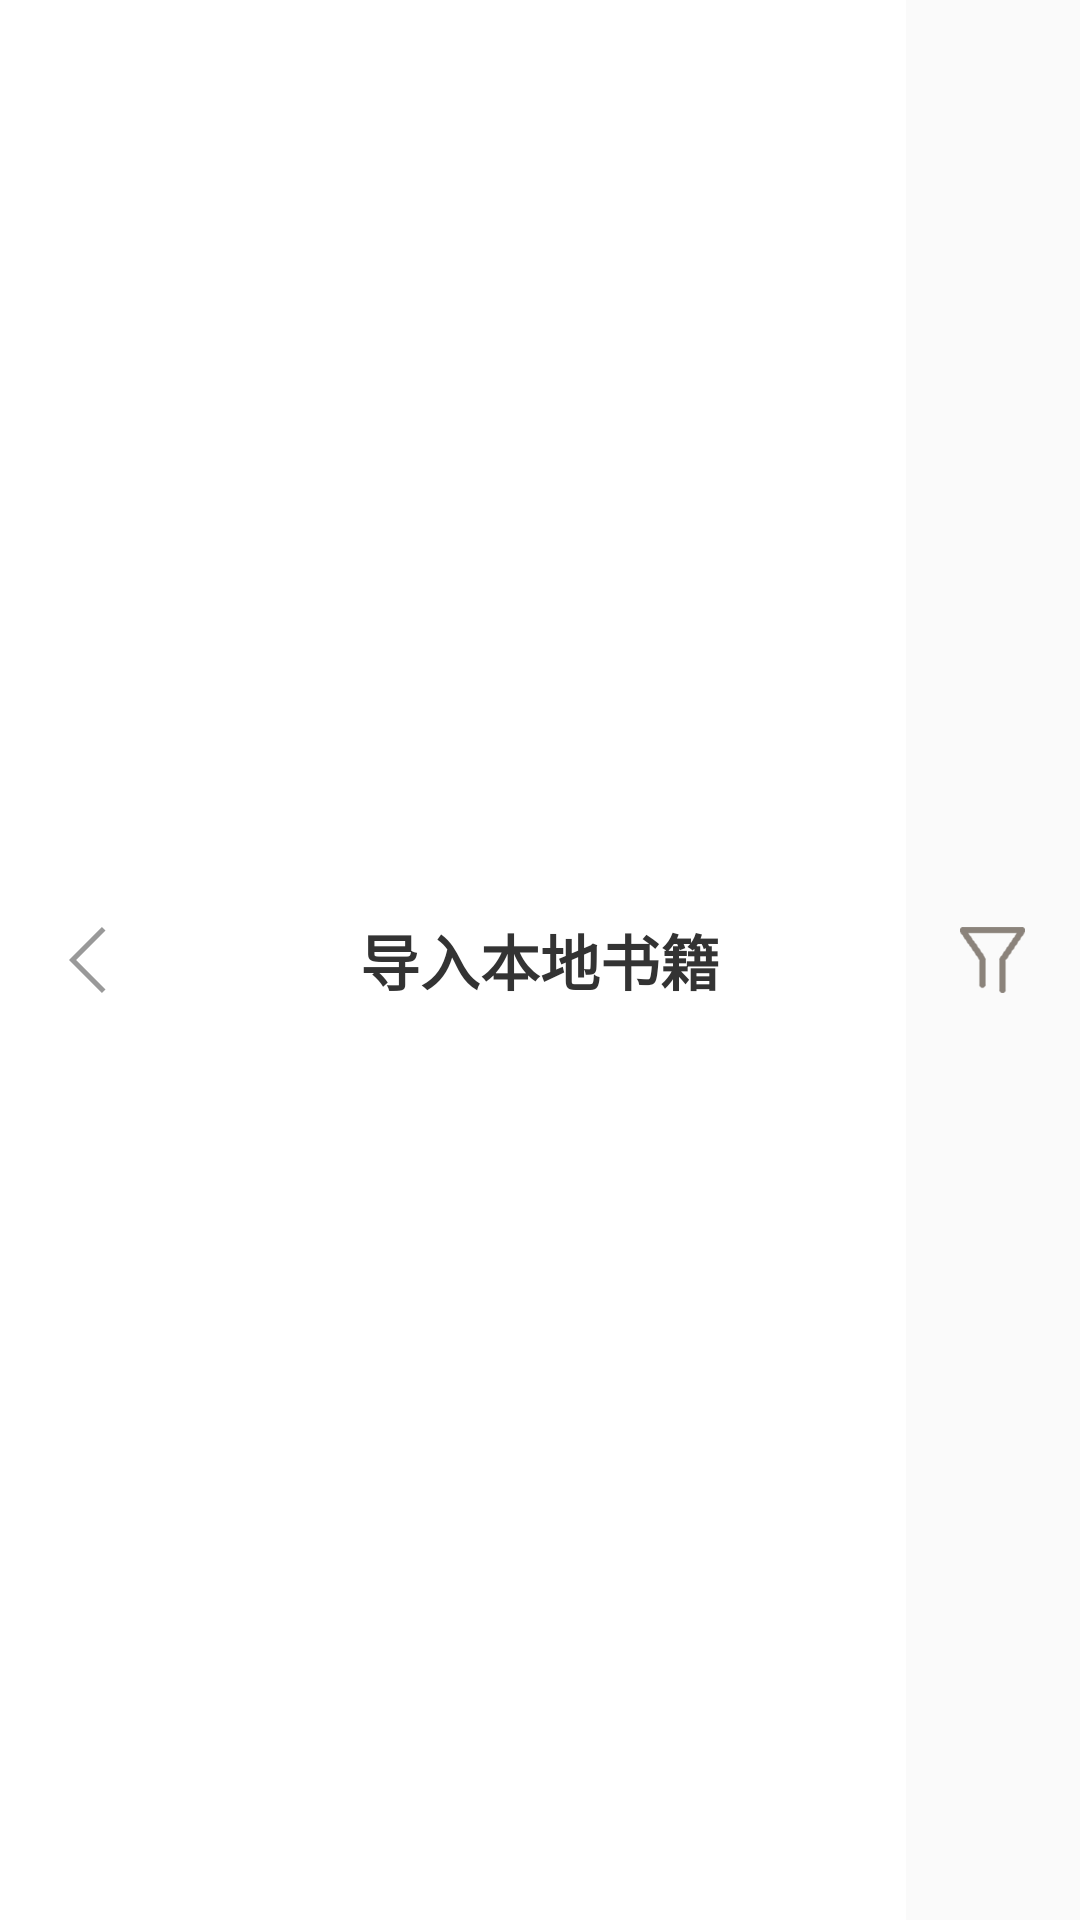

Where to tap for icons on this 1080*1920 app screen, as (x,y):
filter: (992,960)
title return: (87,960)
